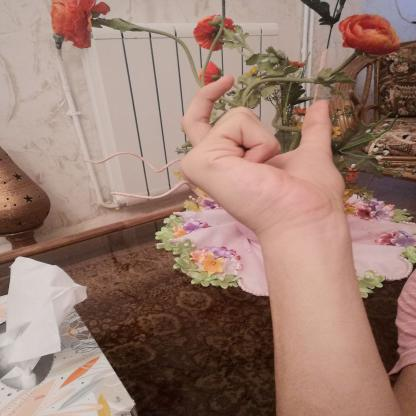NOON: (160, 68, 370, 246)
